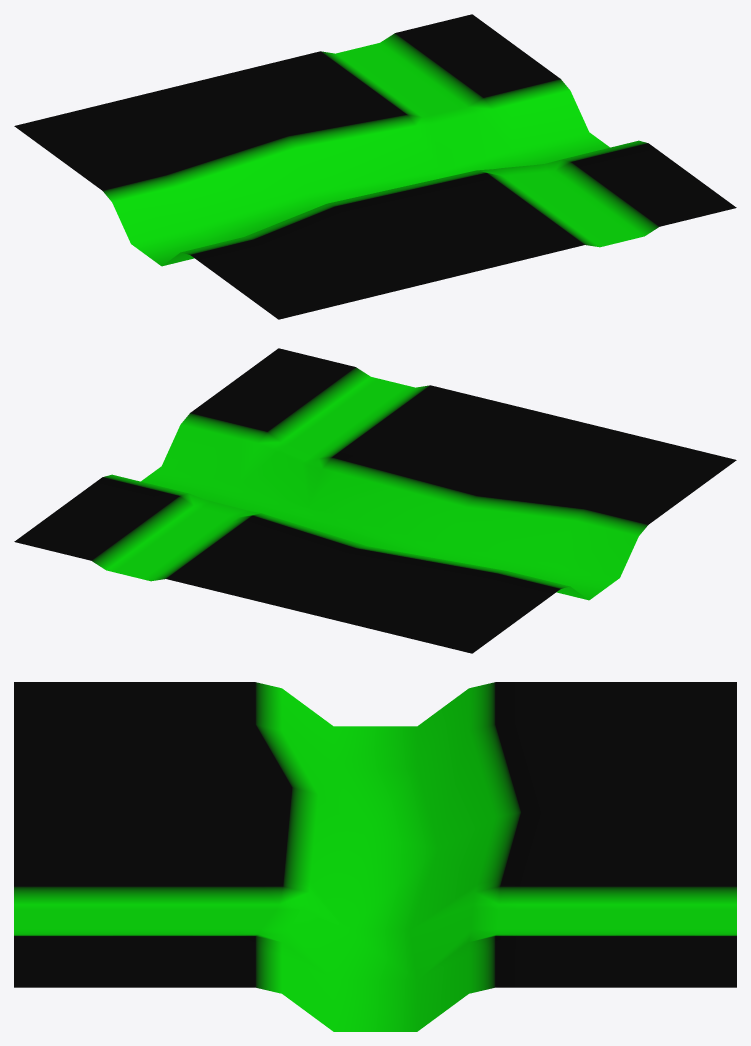
Rendered from SM_Ground_16m_RiverPathway.FBX.
3 views of the same model, one above another, from view 1: azimuth 30°, elevation 25°; view 2: azimuth 150°, elevation 25°; view 3: azimuth 270°, elevation 25° (orthographic). The views are drawn at different scales.
Parts seen in each view (by area): view 1: SM_Ground_16m_RiverPathway; view 2: SM_Ground_16m_RiverPathway; view 3: SM_Ground_16m_RiverPathway.
Boxes of the visible parts, box(x1,y1,x2,y2) form: SM_Ground_16m_RiverPathway: box(14, 14, 736, 319); SM_Ground_16m_RiverPathway: box(14, 348, 736, 653); SM_Ground_16m_RiverPathway: box(14, 682, 736, 1031).
Bounding box in the file's own units: 1600 × 1600 × 108.
